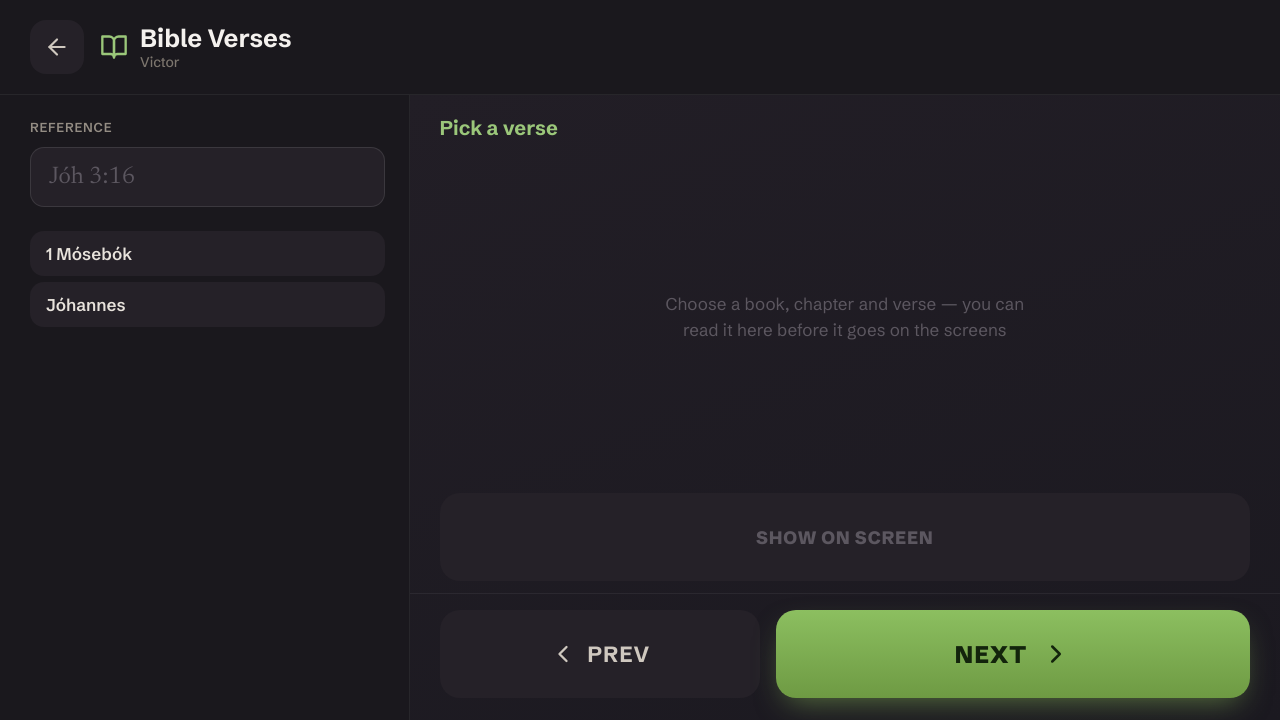
Scenario: Bible view › adds the shown reference to the history strip
Type "Jóhannes 3:16" into the field labelled "Reference" at (207, 177), box [30,147,385,207]
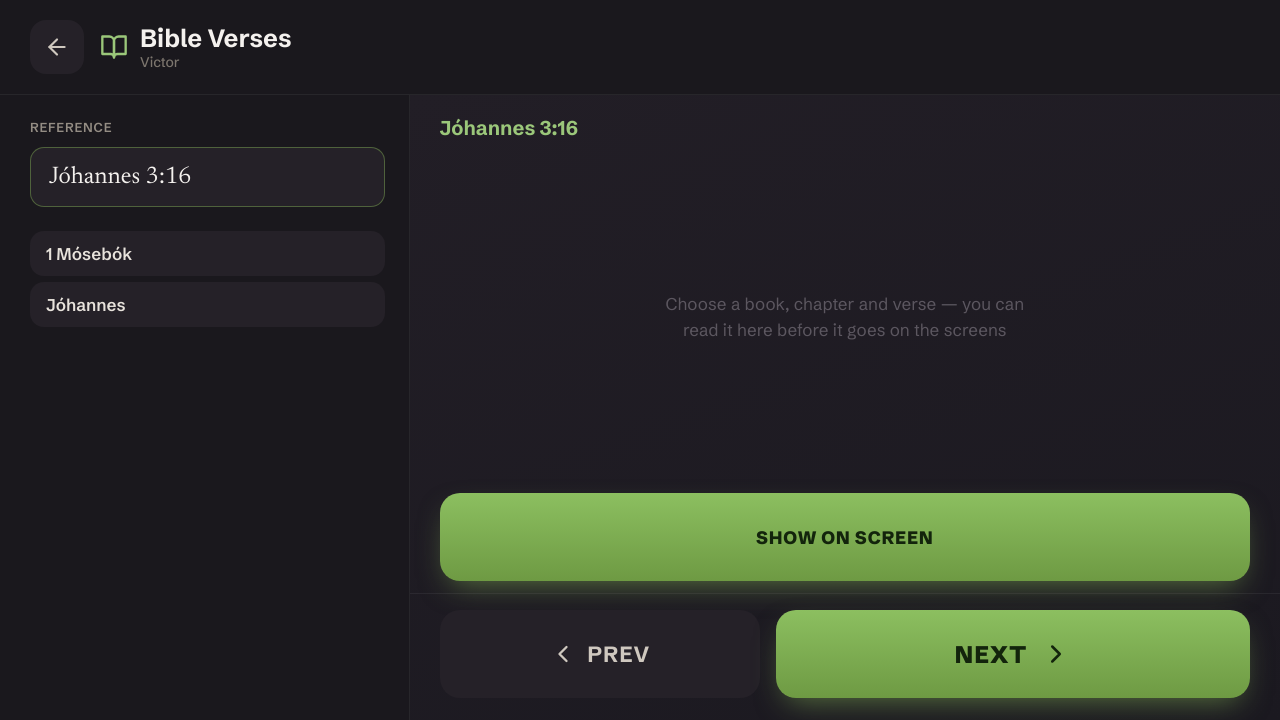
Click the button "SHOW ON SCREEN" at (845, 537), box [440,493,1250,581]
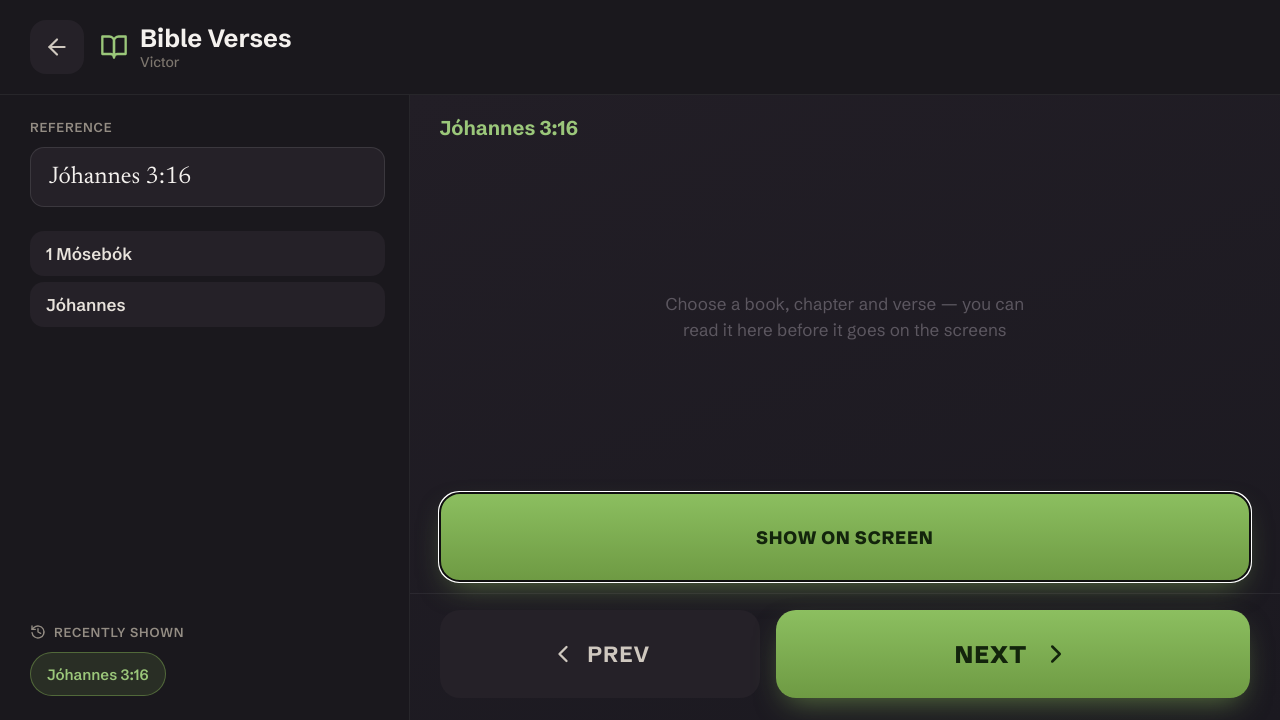
Now the button "Jóhannes 3:16" is shown, box [30,652,166,696]
